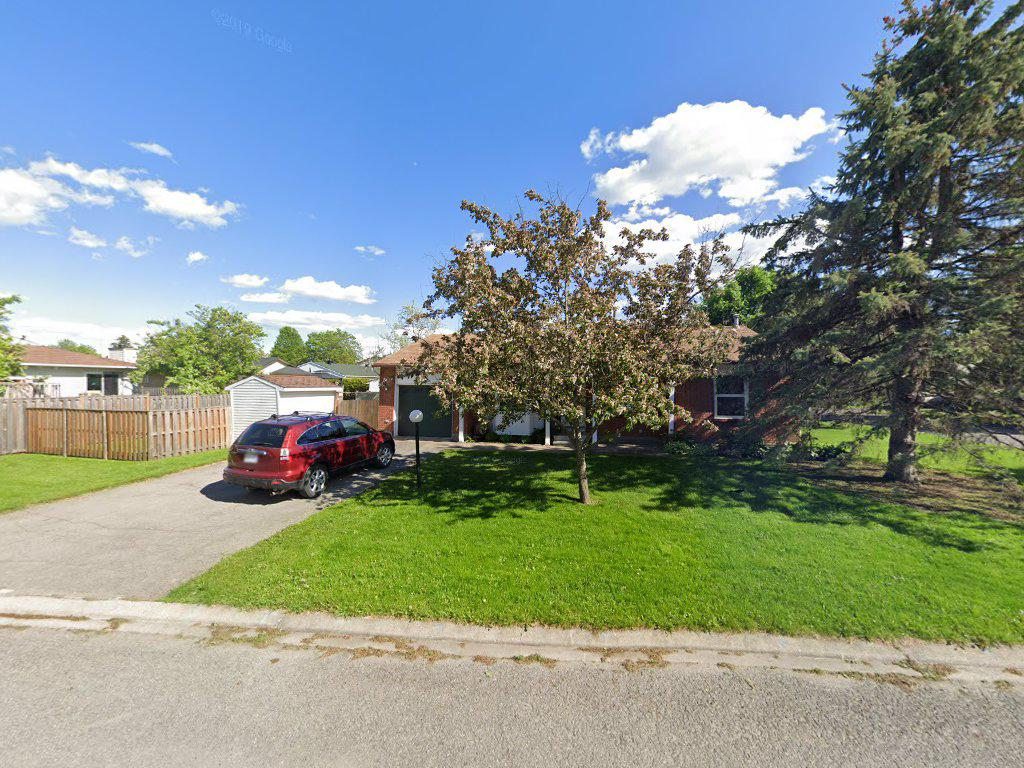trunk: (885, 374, 921, 488), (568, 433, 601, 509)
